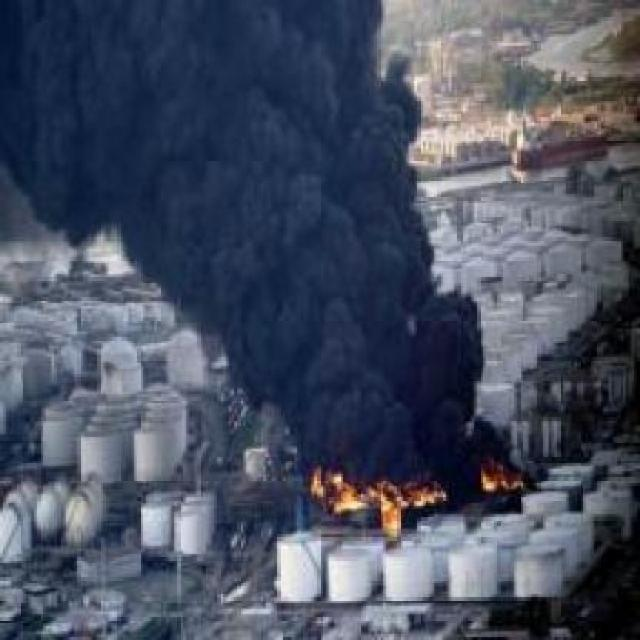Smoke: (0, 0, 505, 466)
